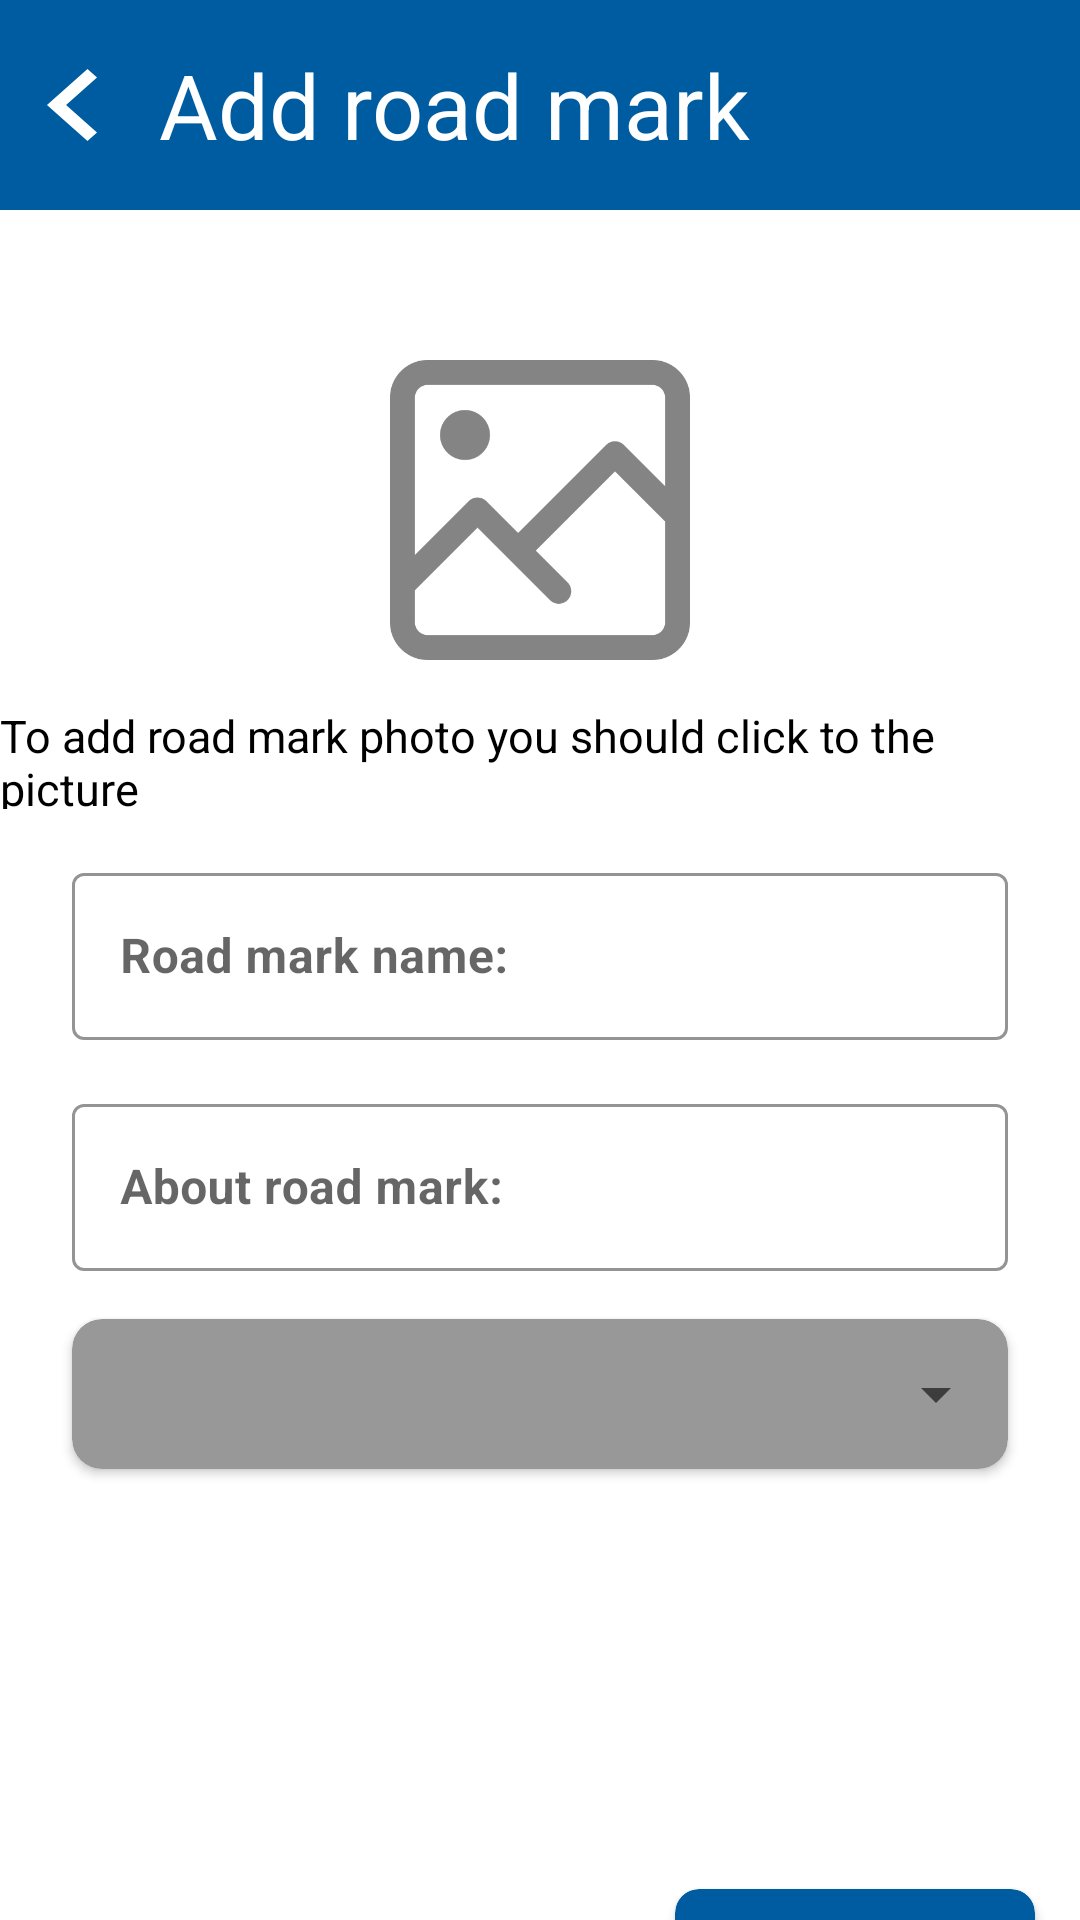

Where icons sit on this 1080x1920 app screen, as (x1, y1, x2, y2):
galereya: (390, 360, 690, 660)
orqga belgi qoshish: (47, 69, 97, 141)
